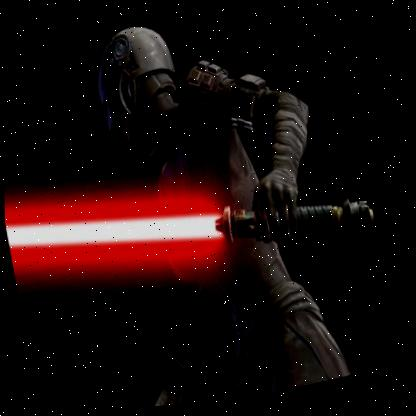person: (68, 0, 362, 411)
sith_lightsaber: (4, 184, 382, 281)
